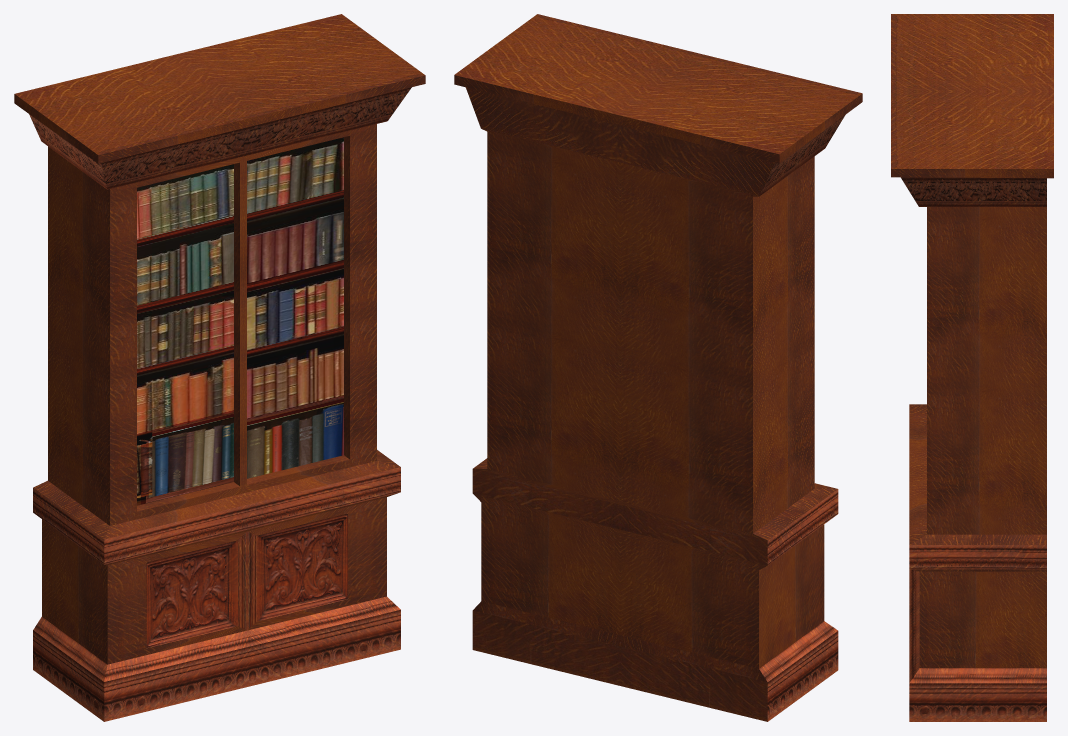
File: Bookcase3.fbx
3 renders of one model, left to right at view 1: azimuth 30°, elevation 25°; view 2: azimuth 150°, elevation 25°; view 3: azimuth 270°, elevation 25°, orthographic. The views are drawn at different scales.
Visible parts, largest first — view 1: Bookcase2.002; view 2: Bookcase2.002; view 3: Bookcase2.002.
Boxes of the visible parts, <box> form: Bookcase2.002: <box>14,14,425,721</box>; Bookcase2.002: <box>454,14,862,721</box>; Bookcase2.002: <box>891,14,1053,721</box>.
Bounding box in the file's own units: 114 × 191 × 50.36.
